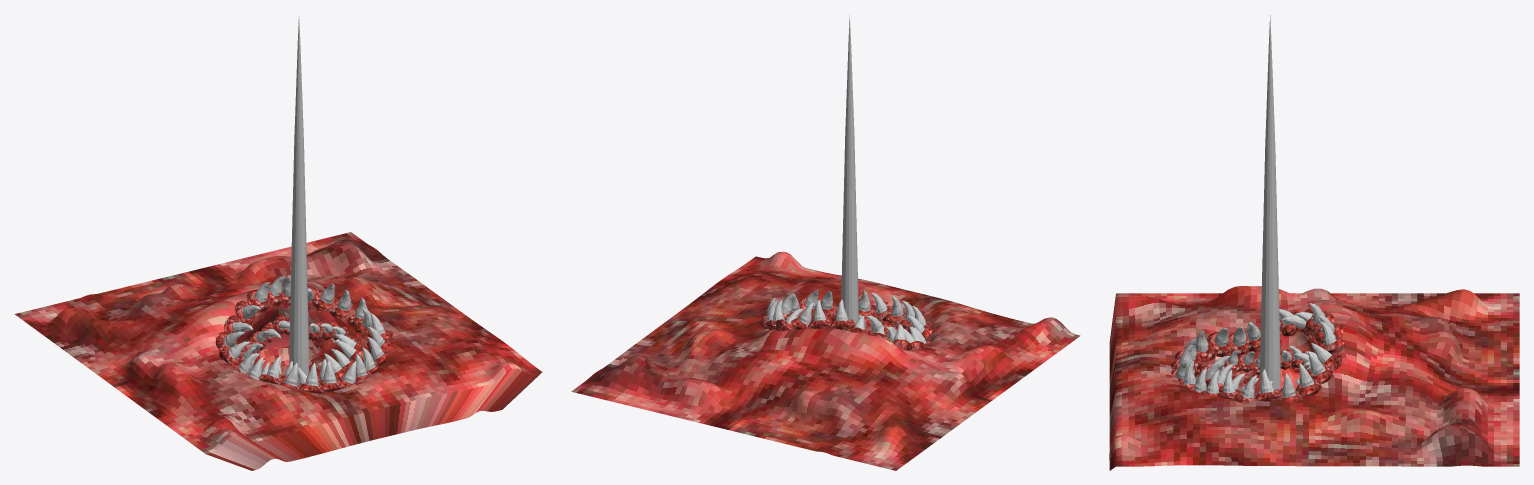
Rendered from carne.fbx.
3 views of the same model, side by side, from view 1: azimuth 30°, elevation 25°; view 2: azimuth 150°, elevation 25°; view 3: azimuth 270°, elevation 25° (orthographic). The views are drawn at different scales.
Parts seen in each view (by area): view 1: General.001, Cylinder.062; view 2: General.001, Cylinder.062; view 3: General.001, Cylinder.062, Cylinder.034, Cylinder.020, Cylinder.018, Cylinder.016, Cylinder.022.
Part boxes in pixels (x1,y1,x2,y2): General.001: (14,232,542,470); Cylinder.062: (289,16,308,383); General.001: (571,251,1080,470); Cylinder.062: (841,15,858,323); General.001: (1109,286,1519,470); Cylinder.062: (1260,15,1280,390); Cylinder.034: (1206,327,1233,357); Cylinder.020: (1295,363,1321,396); Cylinder.018: (1308,352,1333,383); Cylinder.016: (1318,321,1345,353); Cylinder.022: (1255,369,1281,401).
Bounding box in the file's own units: 152 × 179 × 152.
